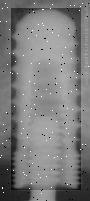BioLife: (9, 7, 81, 191)
